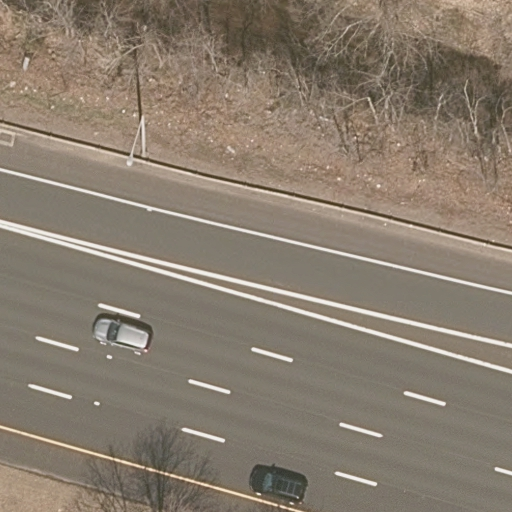DT: (124, 112, 148, 168)
